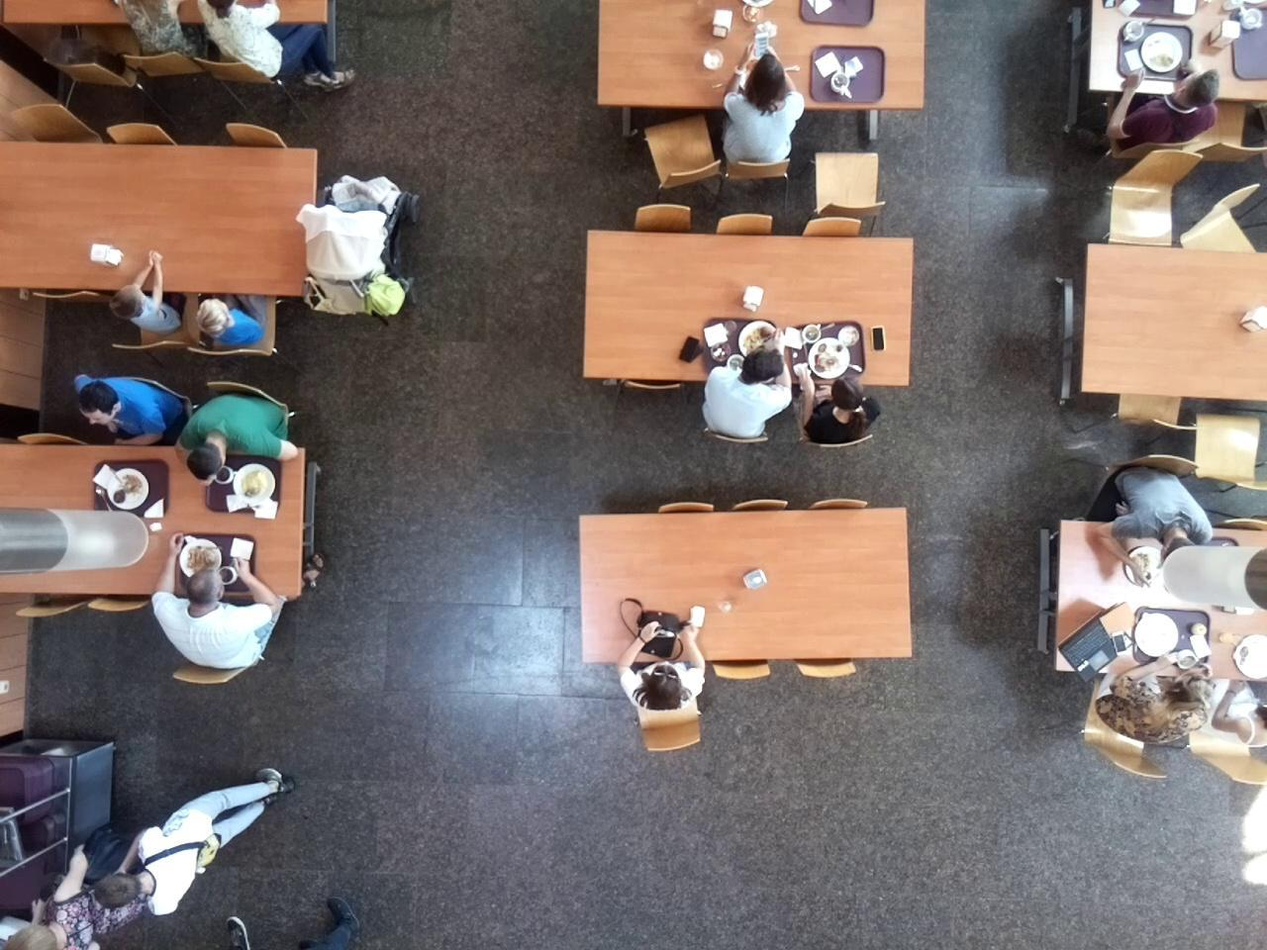person: (115, 744, 297, 930), (153, 535, 298, 700), (1077, 625, 1210, 788), (1099, 60, 1231, 208), (703, 27, 812, 196), (1075, 457, 1208, 595), (198, 1, 350, 119), (597, 631, 719, 769), (191, 386, 337, 498), (691, 313, 790, 462), (69, 373, 183, 490), (799, 316, 877, 475), (171, 252, 272, 364), (112, 234, 176, 364)
